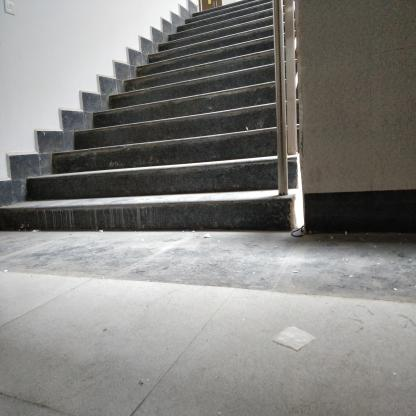stairs: (193, 9, 272, 241)
